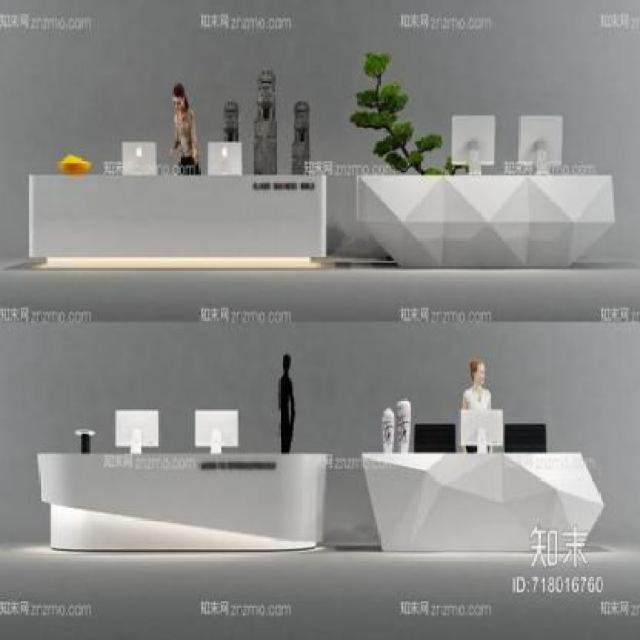frontdesk: (9, 145, 334, 276), (25, 439, 337, 566), (356, 437, 616, 571), (352, 157, 622, 265)
